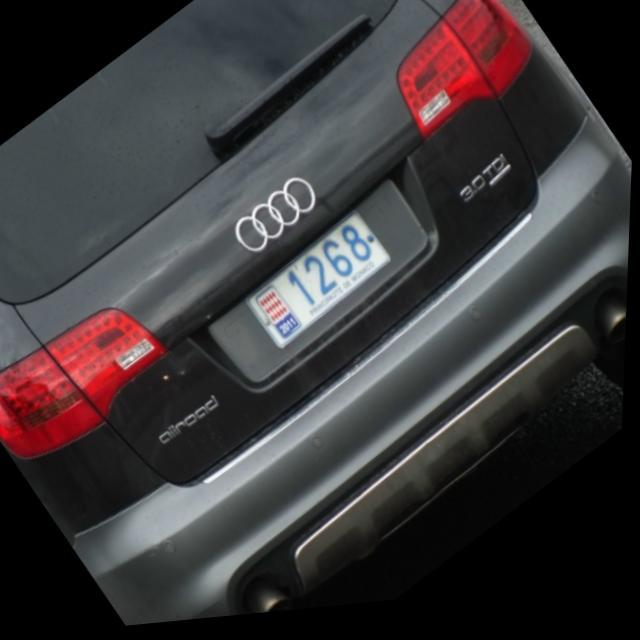license_plate: (242, 218, 392, 354)
